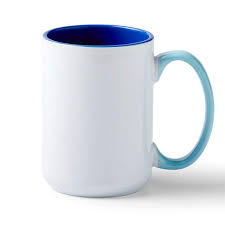mug: (31, 22, 216, 202)
